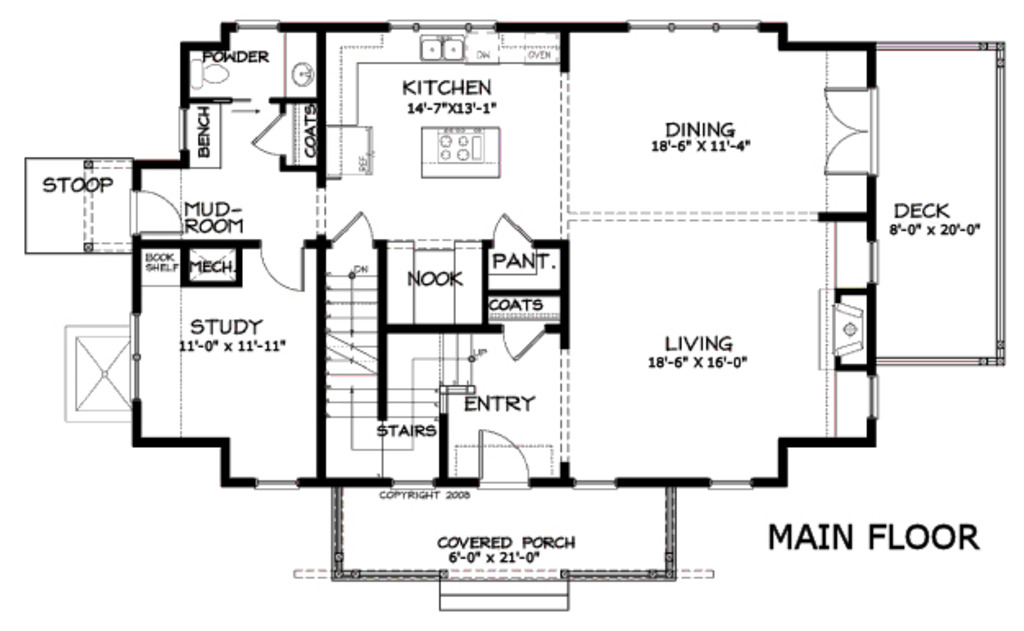door: (822, 73, 893, 177), (469, 413, 540, 491), (123, 174, 195, 239), (242, 105, 306, 166), (255, 232, 316, 295), (326, 186, 389, 239), (498, 315, 561, 364), (490, 202, 545, 254)
kitchen_bar: (416, 116, 512, 180)
large_sink: (182, 55, 240, 98)
small_sink: (286, 33, 327, 100)
stairs: (317, 240, 480, 488), (426, 560, 572, 615)
twin_sink: (407, 21, 480, 72)
window: (630, 16, 756, 35), (863, 370, 889, 424), (129, 311, 145, 398), (571, 469, 628, 491), (253, 470, 304, 494), (708, 476, 759, 496)
